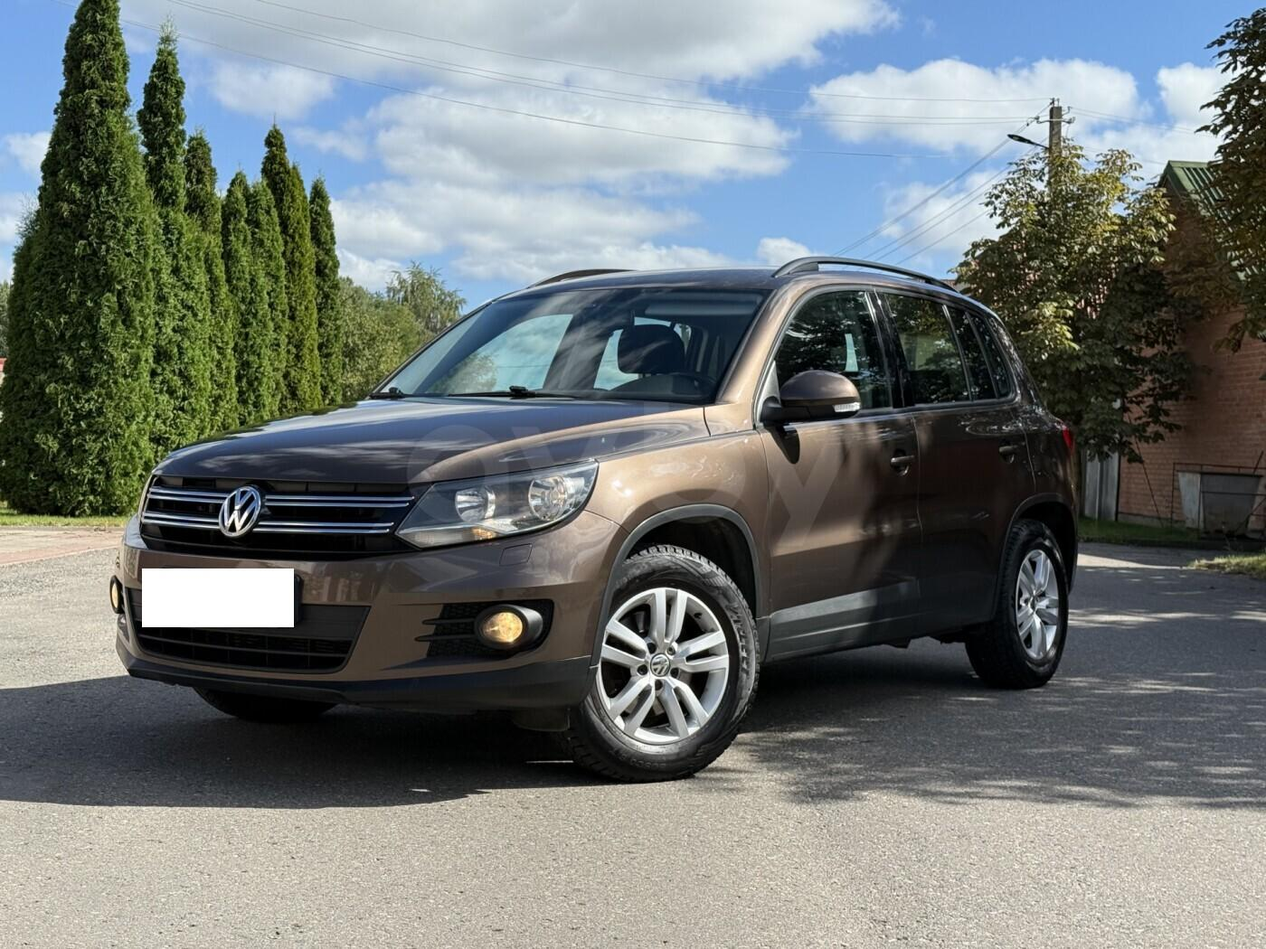Tiguan_2011-2018: (110, 257, 1085, 786)
